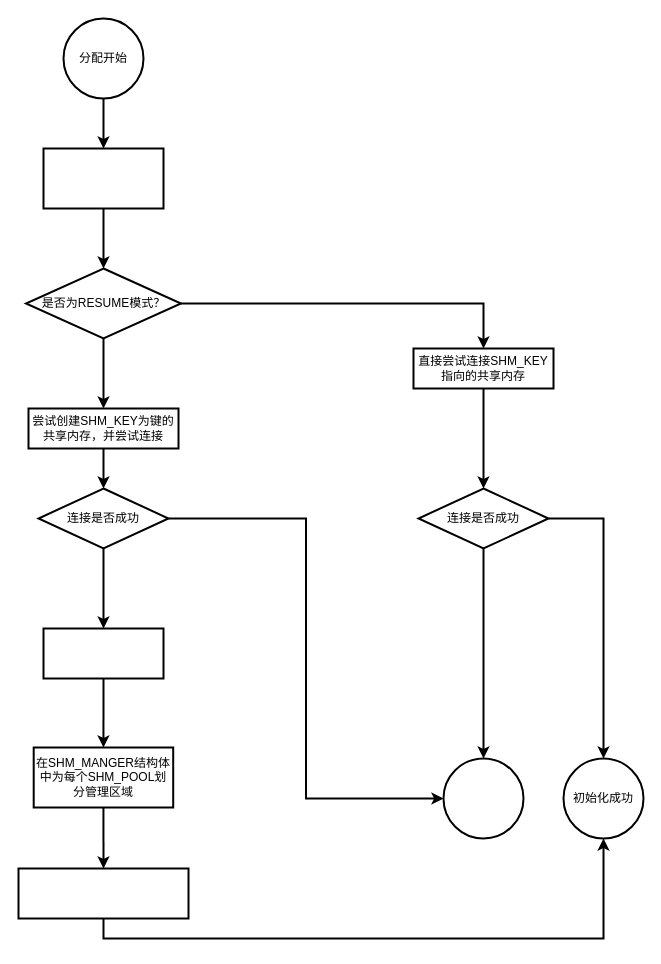
The diagram is 661 pixels wide and 964 high, and some of its shapes have lost their labels. Each missing label, with the centre of its shape:
"初始化失败" goes at [483,798].
"将内存块映射为SHM_MANAGER" goes at [103,653].
"根据SHM_TYPE找到对应的SHM_POOL" goes at [103,178].
"根据配置，初始化SHM_POOL中的SHM_PAGE信息，包括SHM_PAGE基础大小等等" goes at [103,893].
